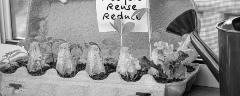organic: (104, 19, 130, 56), (36, 33, 58, 67)
